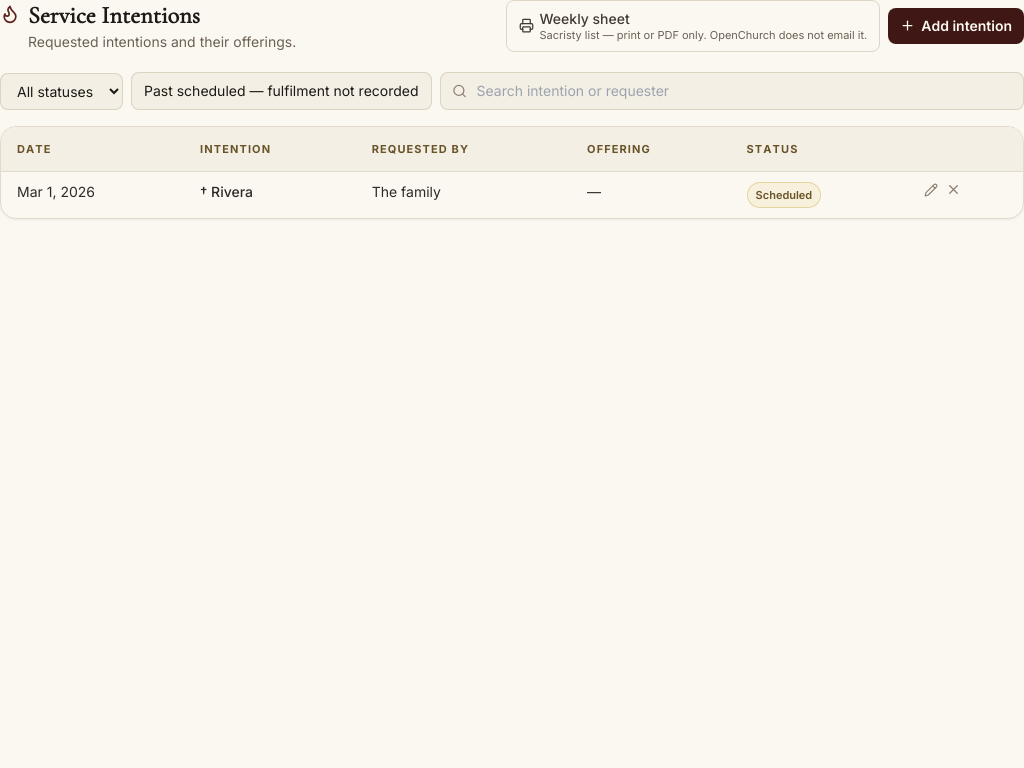
Test: Assign dropdown honesty › editing a past Mass not in the window keeps that Mass selected
Click the button named "edit intention" at (931,190), box [924, 182, 938, 196]
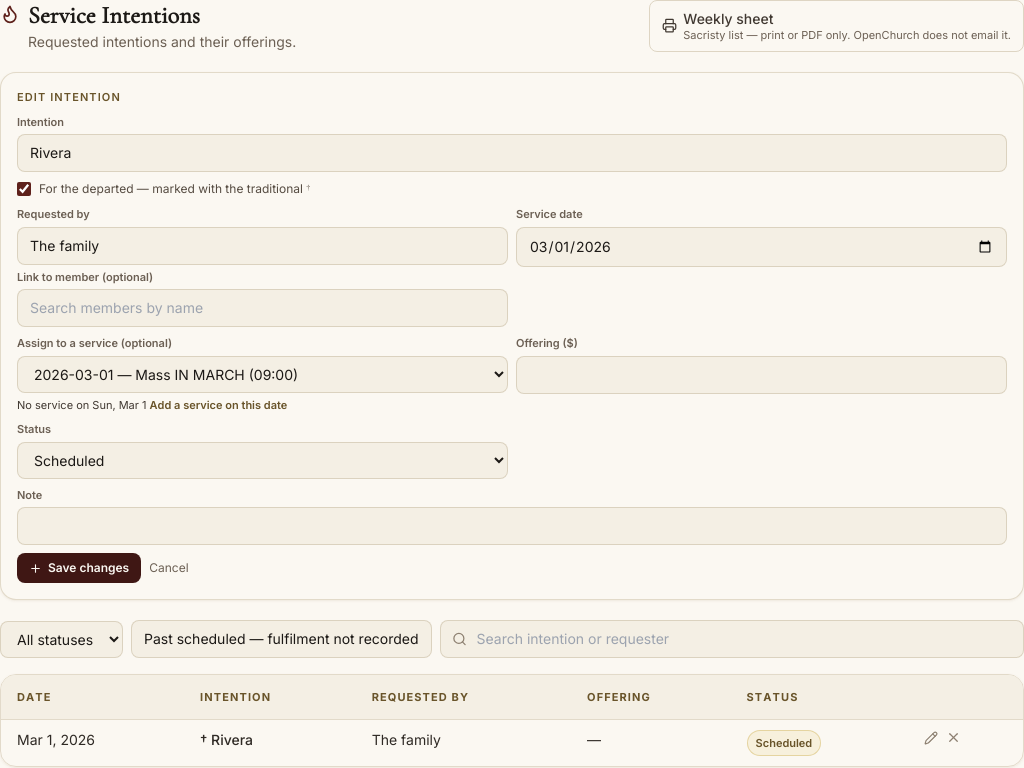
Result: the text "Edit intention" is shown at [17, 90, 121, 104]
